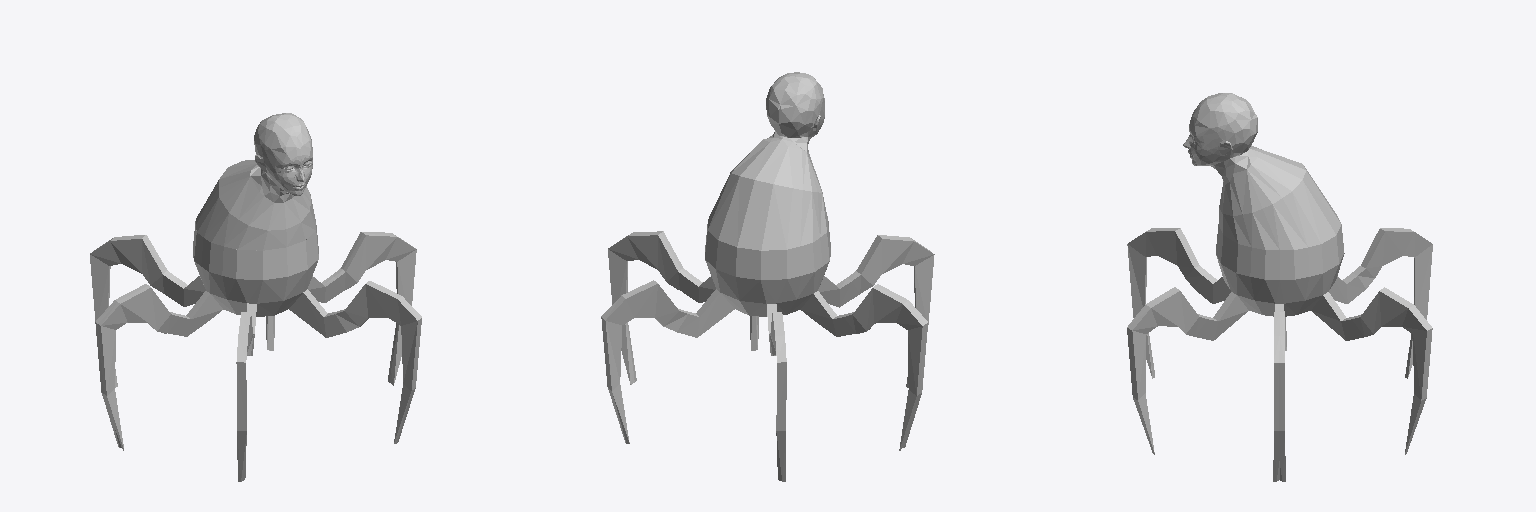
The model's file is monster.obj.
3 views of the same model, side by side, from view 1: azimuth 30°, elevation 25°; view 2: azimuth 150°, elevation 25°; view 3: azimuth 270°, elevation 25° (orthographic).
Parts seen in each view (by area): view 1: Sphere013, Plane001; view 2: Sphere013, Plane001; view 3: Sphere013, Plane001.
Boxes of the visible parts, <box> form: Sphere013: <box>90,221,421,481</box>; Plane001: <box>196,113,315,250</box>; Sphere013: <box>601,221,934,481</box>; Plane001: <box>708,72,827,250</box>; Sphere013: <box>1127,225,1432,481</box>; Plane001: <box>1183,93,1341,249</box>.
Bounding box in the file's own units: 19.29 × 18.74 × 16.22.